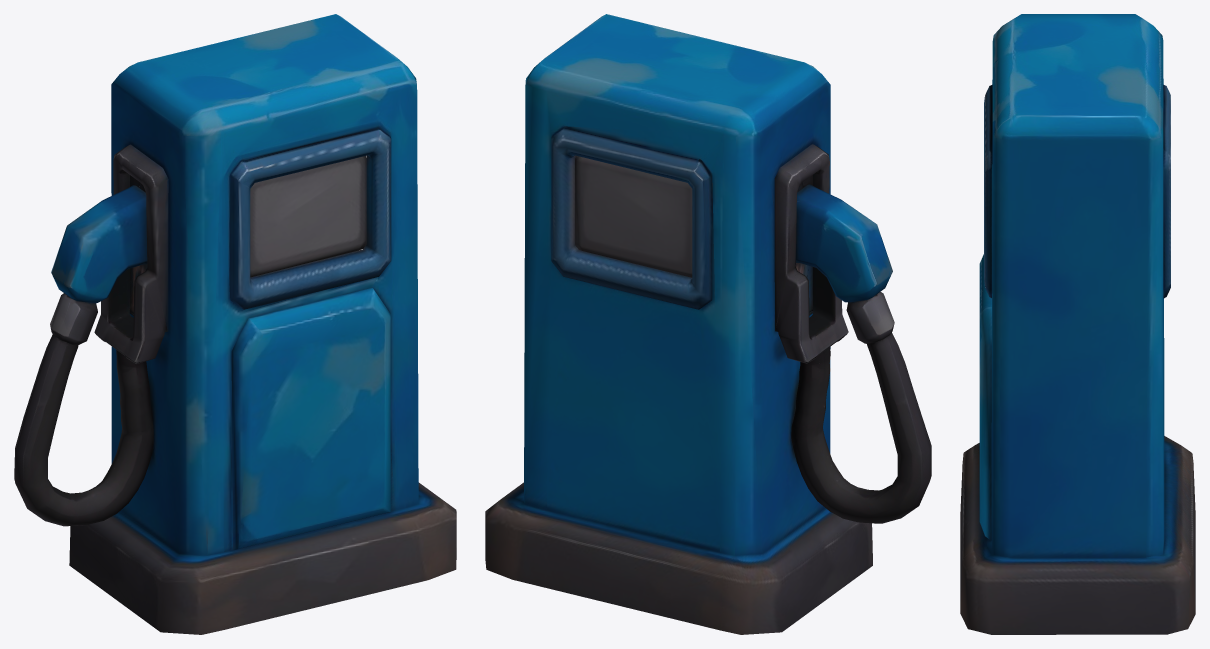
The model's file is fuel-pump-blue.glb.
3 renders of one model, left to right at view 1: azimuth 30°, elevation 25°; view 2: azimuth 150°, elevation 25°; view 3: azimuth 270°, elevation 25°, orthographic.
Parts seen in each view (by area): view 1: tripo_node_b461f5f6-6940-4e60-96b3-8e1ee72be56e; view 2: tripo_node_b461f5f6-6940-4e60-96b3-8e1ee72be56e; view 3: tripo_node_b461f5f6-6940-4e60-96b3-8e1ee72be56e.
Boxes of the visible parts, left/top/right/bottom form: tripo_node_b461f5f6-6940-4e60-96b3-8e1ee72be56e: left=14, top=14, right=456, bottom=634; tripo_node_b461f5f6-6940-4e60-96b3-8e1ee72be56e: left=485, top=14, right=931, bottom=634; tripo_node_b461f5f6-6940-4e60-96b3-8e1ee72be56e: left=960, top=14, right=1195, bottom=634.
Size of the model in its own units: 1.34 by 1.6 by 0.6857.
Materials: 1 (1 with a texture image).
